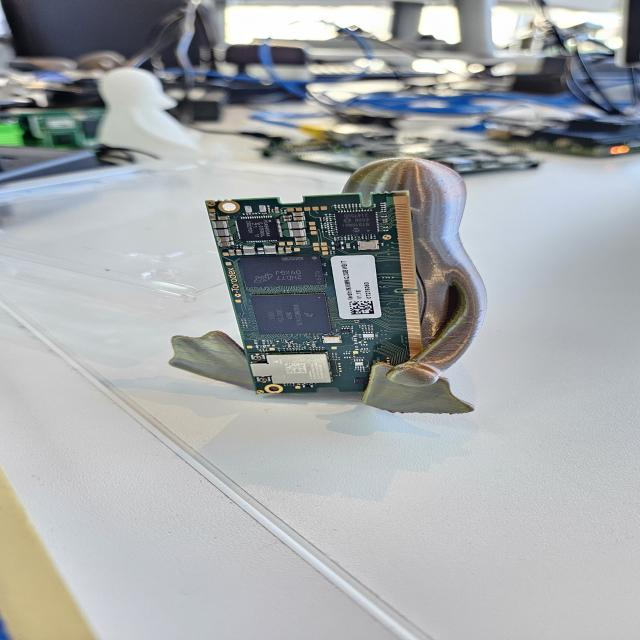som: (187, 190, 450, 400)
